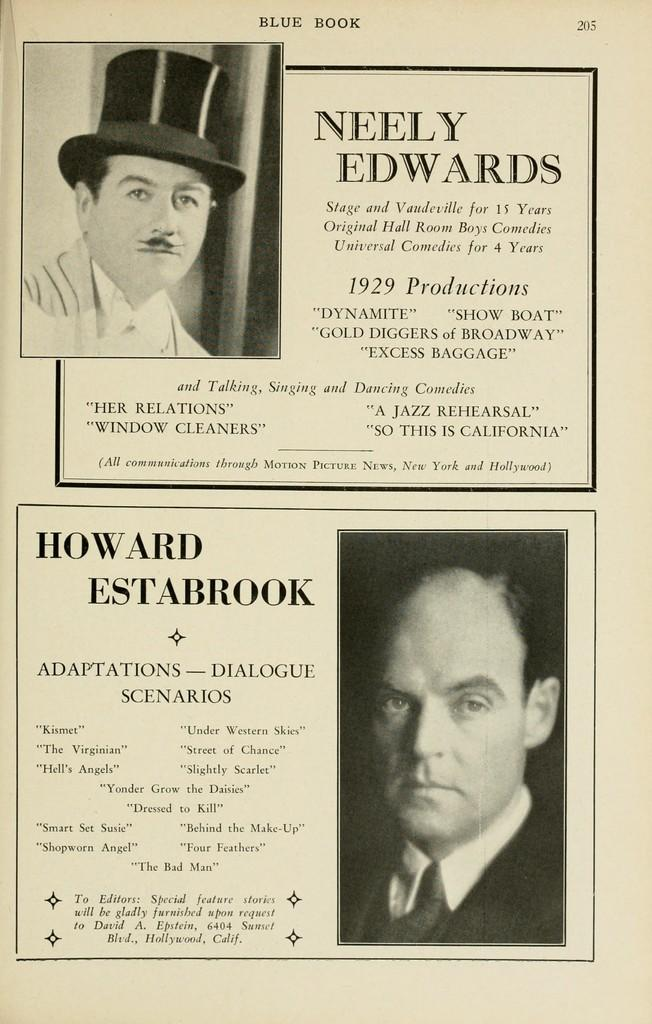Hat: (58, 50, 248, 204)
